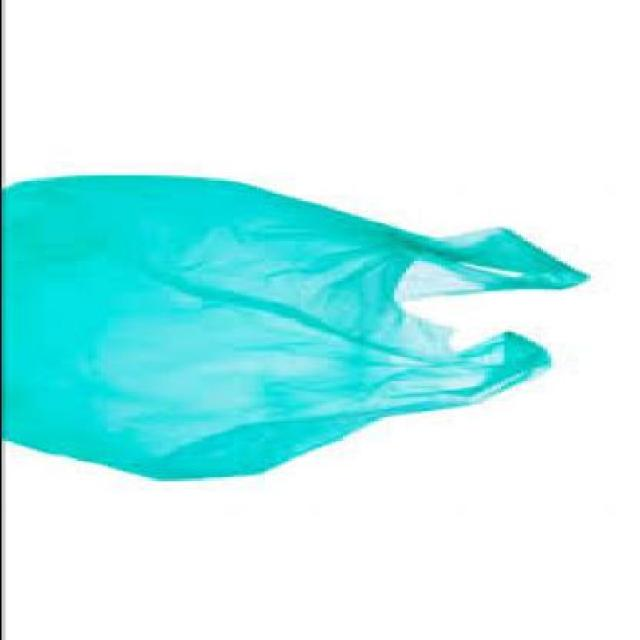PLASTIC: (4, 178, 593, 482)
